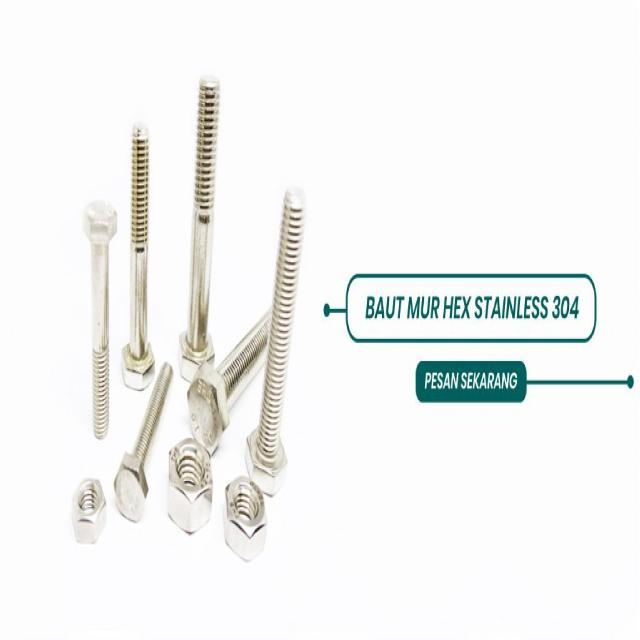Logam: (255, 150, 309, 512), (79, 179, 129, 457), (181, 49, 220, 376), (122, 92, 156, 403), (117, 346, 173, 533), (218, 436, 277, 581), (165, 419, 214, 555), (64, 461, 115, 559)
